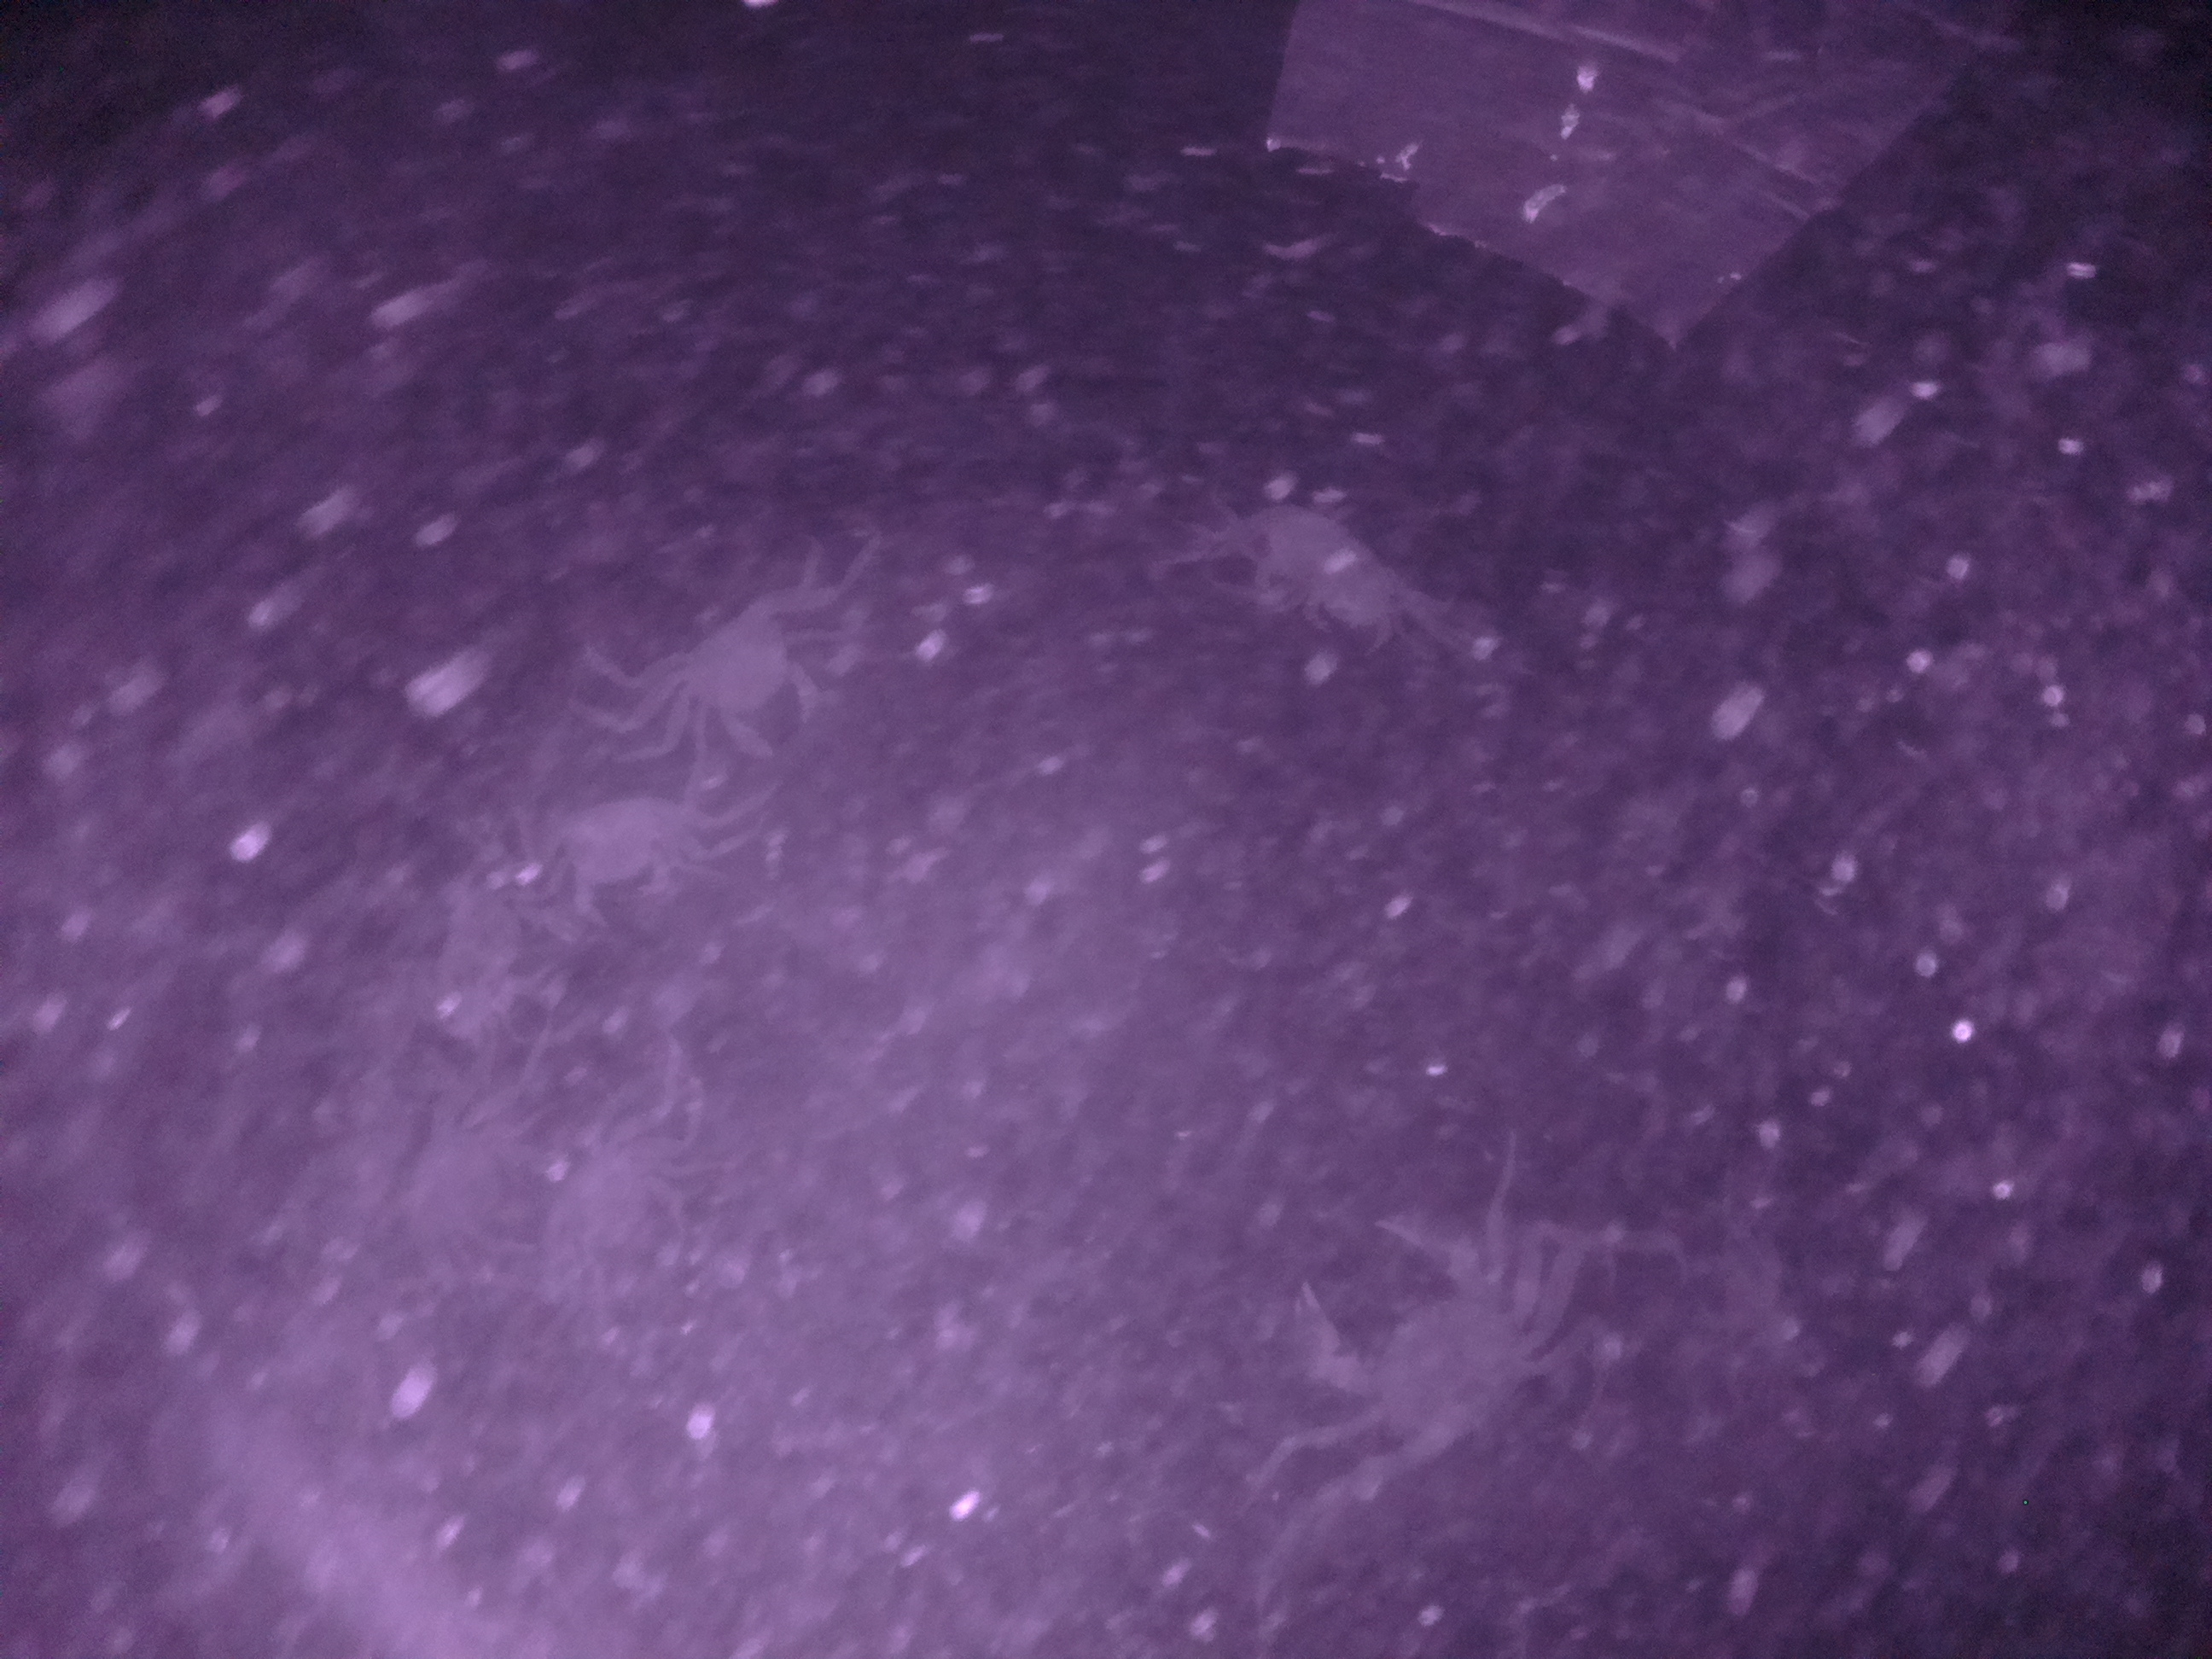Crab: (644, 582, 848, 788)
